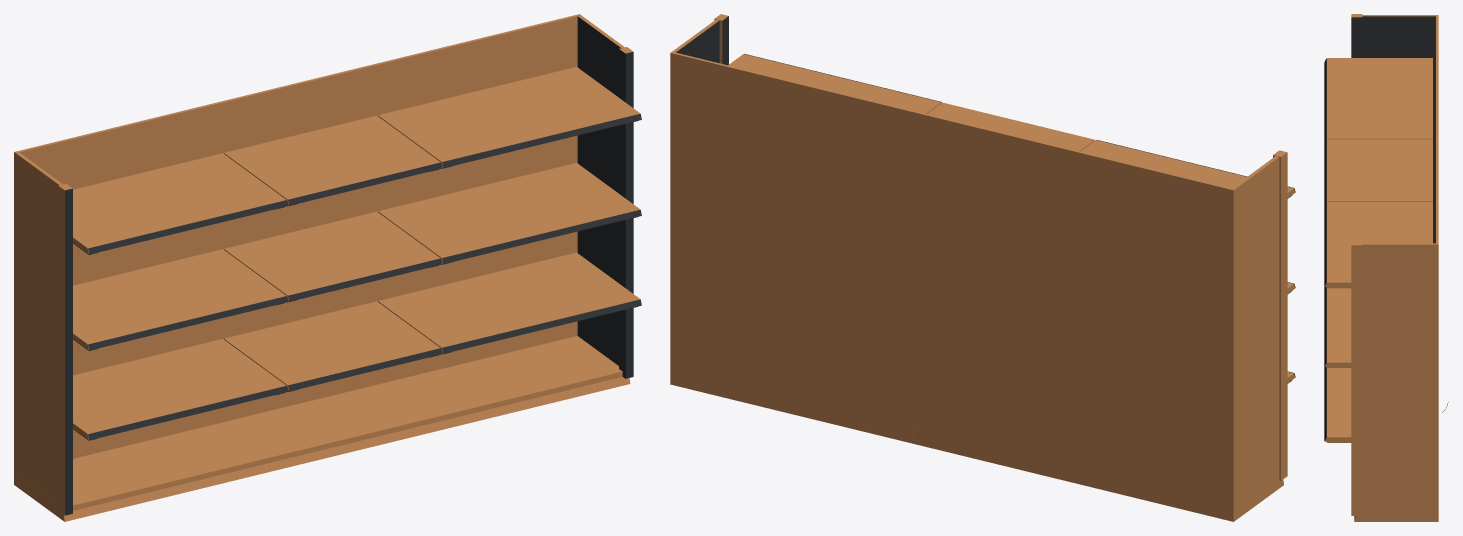
File: SM_large_shelf.fbx
3 views of the same model, side by side, from view 1: azimuth 30°, elevation 25°; view 2: azimuth 150°, elevation 25°; view 3: azimuth 270°, elevation 25° (orthographic). The views are drawn at different scales.
Visible parts, largest first — view 1: large_shelf; view 2: large_shelf; view 3: large_shelf.
Boxes of the visible parts, x1=… form: large_shelf: x1=14, y1=14, x2=641, y2=521; large_shelf: x1=670, y1=14, x2=1295, y2=521; large_shelf: x1=1324, y1=14, x2=1448, y2=521.
Bounding box in the file's own units: 338 × 189 × 76.71.
